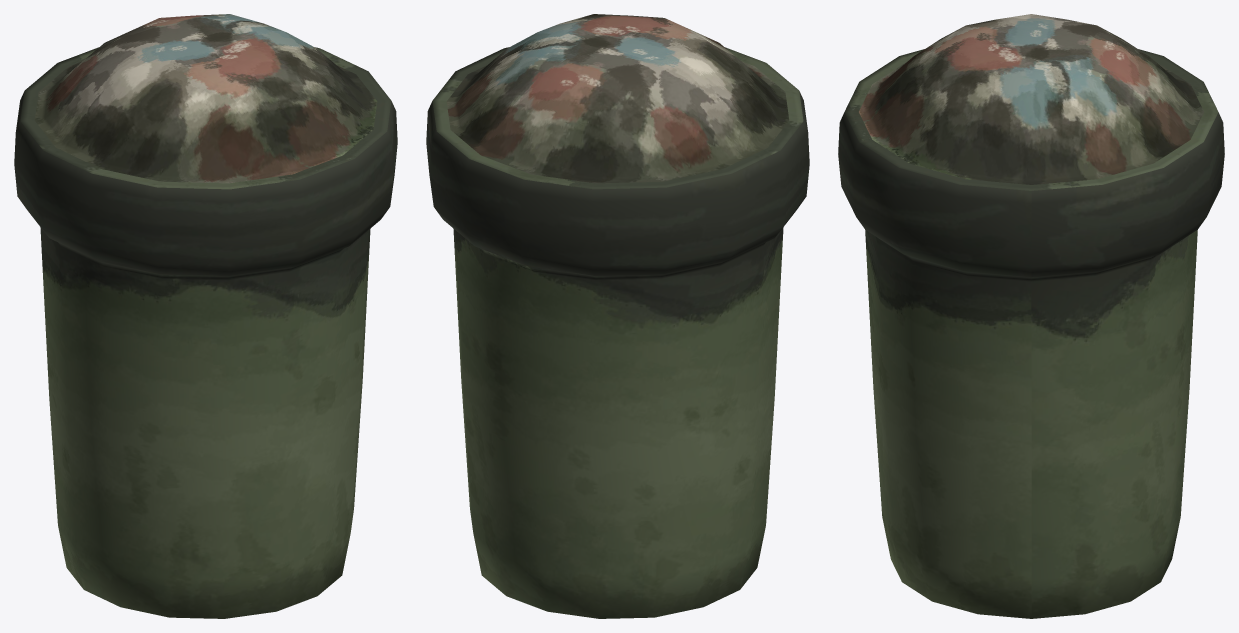
Rendered from trash_can.fbx.
3 views of the same model, side by side, from view 1: azimuth 30°, elevation 25°; view 2: azimuth 150°, elevation 25°; view 3: azimuth 270°, elevation 25° (orthographic).
Visible parts, largest first — view 1: trash_can; view 2: trash_can; view 3: trash_can.
Boxes of the visible parts, left/top/right/bottom form: trash_can: left=14, top=14, right=397, bottom=618; trash_can: left=426, top=14, right=809, bottom=618; trash_can: left=838, top=14, right=1224, bottom=618.
Size of the model in its own units: 28.61 by 41.97 by 28.61.
Materials: 1 (1 with a texture image).
